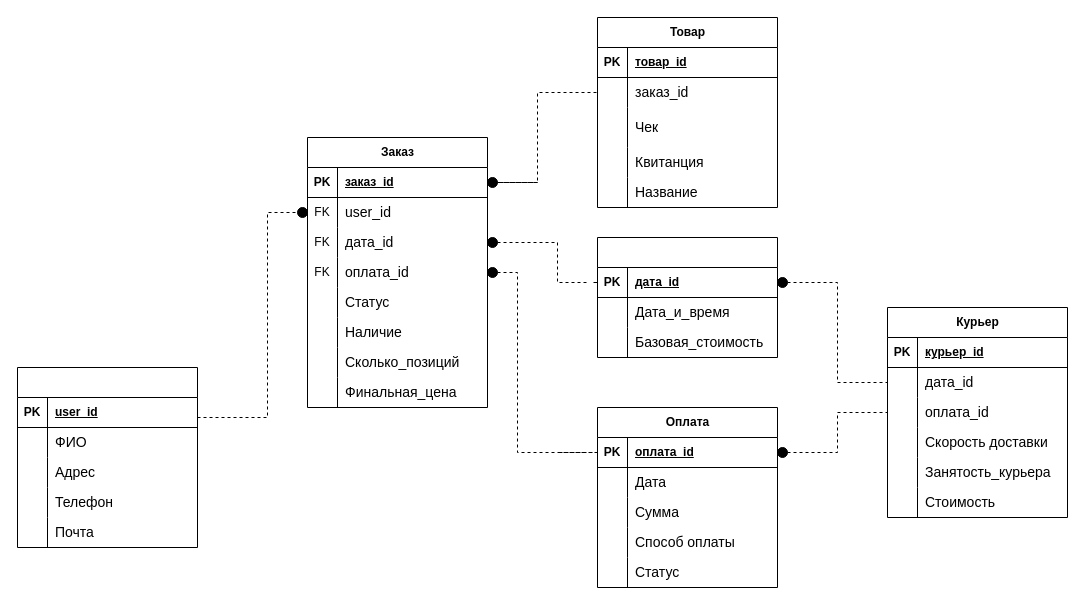
This 1085x605 diagram has some shape labels left out. Each missing label, with the box of its shape:
Доставка: (596, 236, 778, 358)
Пользователь: (16, 366, 198, 548)
